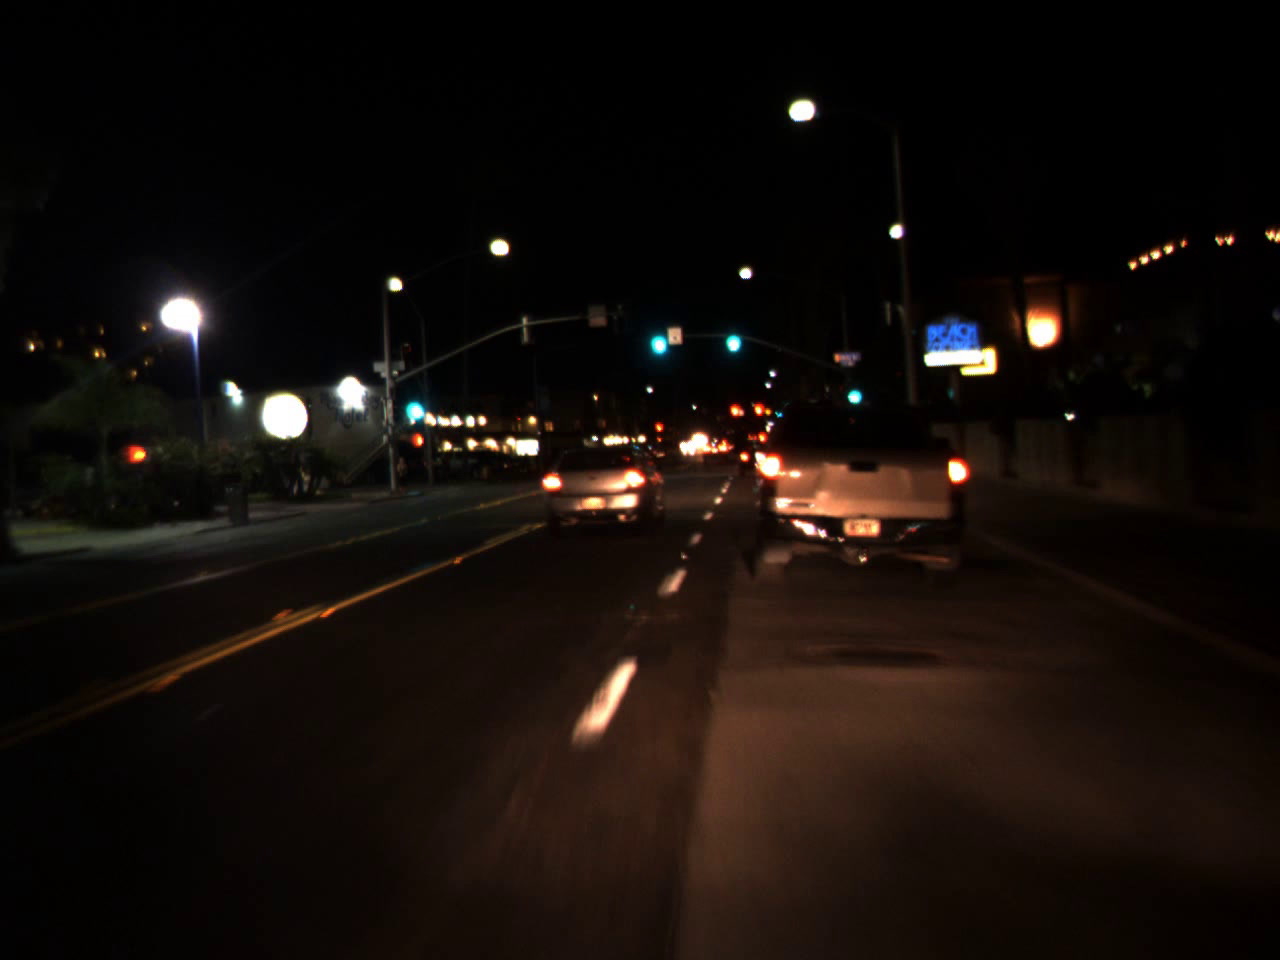go: (645, 313, 670, 361), (399, 380, 426, 425), (720, 316, 743, 355), (841, 373, 864, 409)
